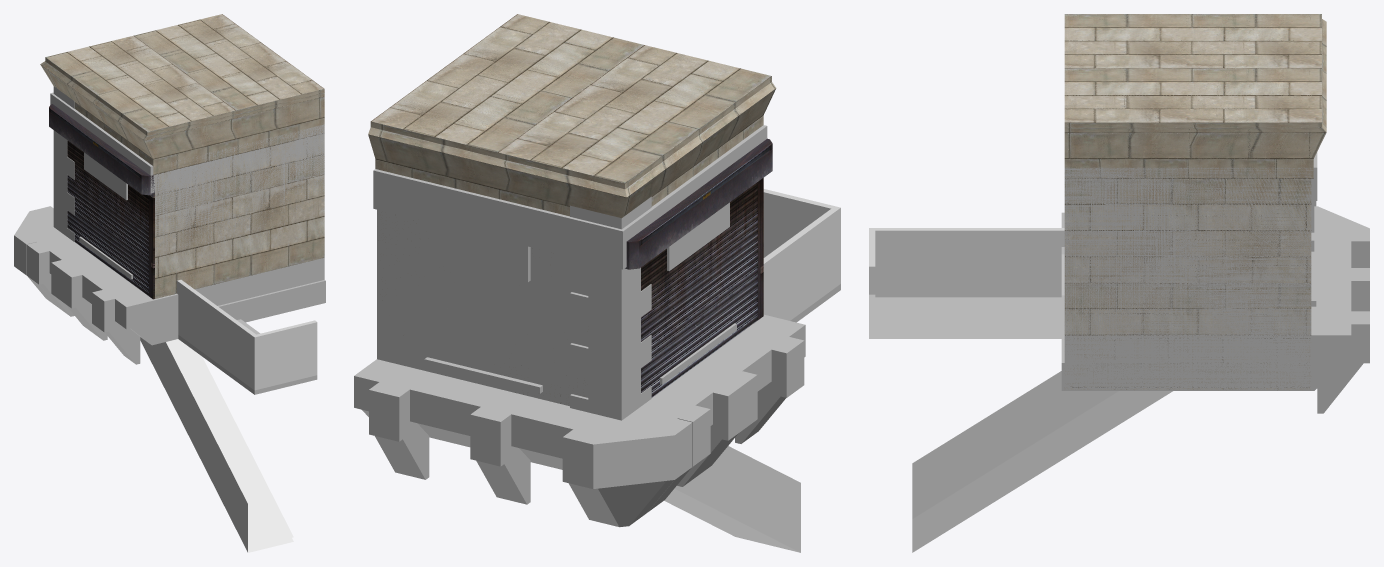
Rendered from Town_1.fbx.
The picture shows the model from 3 angles, left to right: view 1: azimuth 30°, elevation 25°; view 2: azimuth 150°, elevation 25°; view 3: azimuth 270°, elevation 25°; orthographic projection. The views are drawn at different scales.
Parts seen in each view (by area): view 1: TW1_Wall_Low_Turn, TW1_MiddleBalcony, TW1_Wall_Low_Strainght, TW1_Garage_1_Low, TW1_Roof_1_Turn, TW1_Window_1_Middle_Turn, TW1_LowBalcony, TW1_Window_1_High_Turn, TW1_Roof_1_Strainght, TW1_Wall_Middle_Strainght, TW1_Window_1_High_Strainght; view 2: TW1_Wall_Low_Turn, TW1_Roof_1_Turn, TW1_Wall_Middle_Turn, TW1_Window_1_High_Turn, TW1_Garage_1_Low, TW1_Window_1_Middle_Turn, TW1_MiddleBalcony, TW1_Wall_Low_Strainght, TW1_Wall_High_Turn, TW1_LowBalcony, TW1_Roof_1_Strainght, TW1_Window_1_Middle_Strainght.001 (+1 smaller); view 3: TW1_Wall_Low_Turn, TW1_Window_1_Middle_Turn, TW1_MiddleBalcony, TW1_Window_1_High_Turn, TW1_Roof_1_Turn, TW1_Wall_Low_Strainght, TW1_Window_1_High_Strainght, TW1_Garage_1_Low, TW1_LowBalcony, TW1_Window_1_Middle_Strainght.001, TW1_Wall_High_Turn, TW1_Roof_1_Strainght.
Boxes of the visible parts, x1,y1,x2,y2 form: TW1_Wall_Low_Turn: (40,14,324,305); TW1_MiddleBalcony: (140,281,316,552); TW1_Wall_Low_Strainght: (46,17,322,159); TW1_Garage_1_Low: (49,104,303,299); TW1_Roof_1_Turn: (14,206,325,363); TW1_Window_1_Middle_Turn: (84,124,324,291); TW1_LowBalcony: (177,279,317,394); TW1_Window_1_High_Turn: (50,92,324,263); TW1_Roof_1_Strainght: (26,233,152,364); TW1_Wall_Middle_Strainght: (155,124,324,298); TW1_Window_1_High_Strainght: (52,95,322,194); TW1_Wall_Low_Turn: (368,14,776,420); TW1_Roof_1_Turn: (354,314,805,527); TW1_Wall_Middle_Turn: (377,210,651,420); TW1_Window_1_High_Turn: (373,125,767,419); TW1_Garage_1_Low: (625,138,772,397); TW1_Window_1_Middle_Turn: (377,209,736,406); TW1_MiddleBalcony: (664,189,840,552); TW1_Wall_Low_Strainght: (379,14,775,215); TW1_Wall_High_Turn: (373,126,764,328); TW1_LowBalcony: (763,189,840,321); TW1_Roof_1_Strainght: (625,332,804,512); TW1_Window_1_Middle_Strainght.001: (660,329,728,384); TW1_Wall_Low_Turn: (1064,14,1326,390); TW1_Window_1_Middle_Turn: (1064,167,1316,390); TW1_MiddleBalcony: (869,230,1172,552); TW1_Window_1_High_Turn: (1064,152,1317,390); TW1_Roof_1_Turn: (1061,206,1369,413); TW1_Wall_Low_Strainght: (1064,14,1311,178); TW1_Window_1_High_Strainght: (1065,168,1311,384); TW1_Garage_1_Low: (1065,178,1310,390); TW1_LowBalcony: (869,228,1064,338); TW1_Window_1_Middle_Strainght.001: (1065,167,1311,390); TW1_Wall_High_Turn: (1065,153,1317,200); TW1_Roof_1_Strainght: (1065,363,1310,390).
Bounding box in the file's own units: 495 × 870 × 812.
